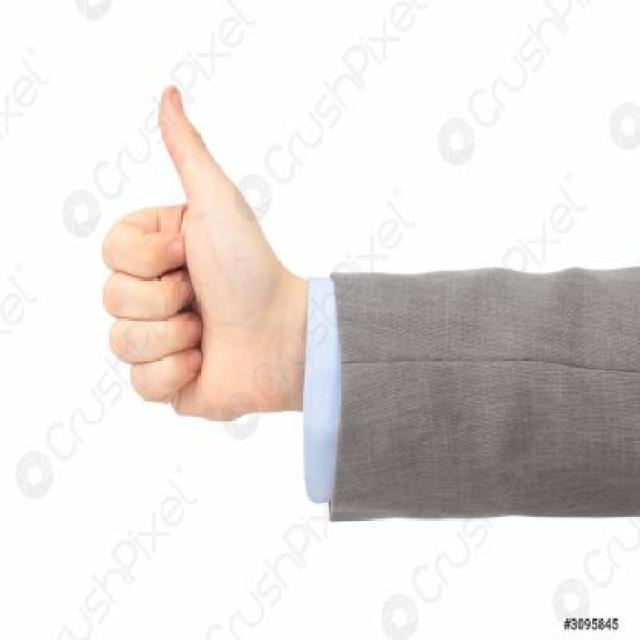no_apron: (78, 80, 296, 429)
